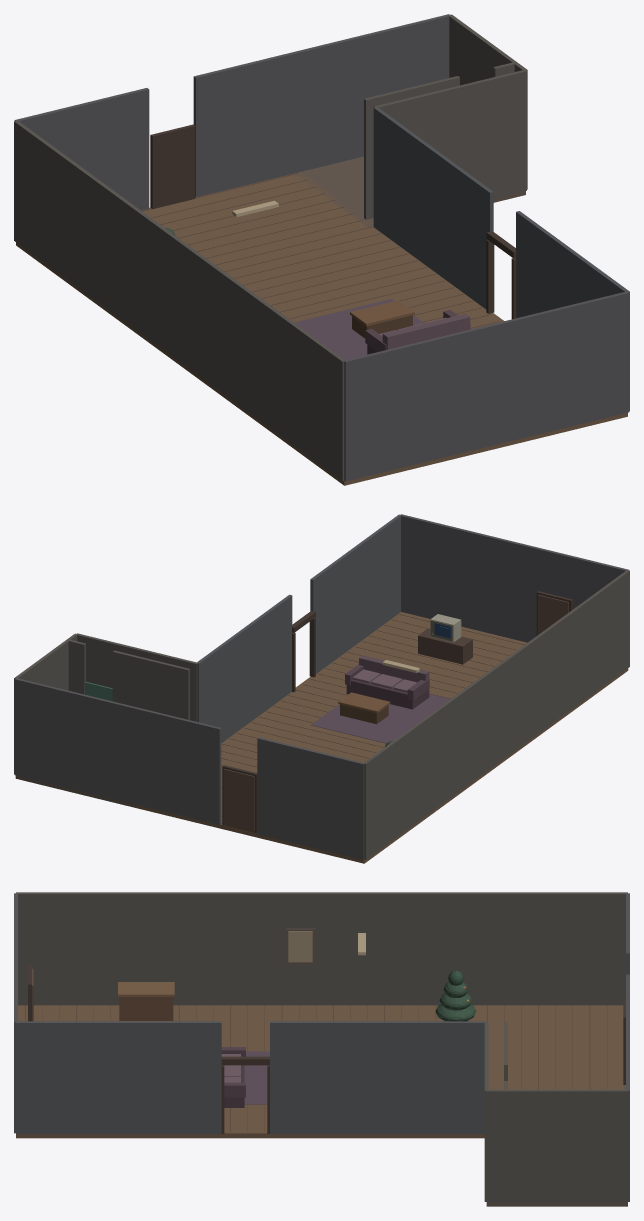
Rendered from casaCustom.obj.
The picture shows the model from 3 angles, top to bottom: view 1: azimuth 30°, elevation 25°; view 2: azimuth 150°, elevation 25°; view 3: azimuth 270°, elevation 25°; orthographic projection. The views are drawn at different scales.
Visible parts, largest first — view 1: casaCustom_original_11, casaCustom_original_12, casaCustom_original_9, casaCustom_original_14, casaCustom_original_15, casaCustom_original_decor_000, casaCustom_original_20, casaCustom_original_13, casaCustom_original_16, casaCustom_original_17, casaCustom_original_10, casaCustom_original_18 (+1 smaller); view 2: casaCustom_original_11, casaCustom_original_14, casaCustom_original_12, casaCustom_original_9, casaCustom_original_decor_000, casaCustom_original_13, casaCustom_original_15, casaCustom_original_16, casaCustom_original_18, casaCustom_original_20, casaCustom_original_17, casaCustom_original_24 (+3 smaller); view 3: casaCustom_original_11, casaCustom_original_15, casaCustom_original_16, casaCustom_original_9, casaCustom_original_17, casaCustom_original_decor_000, casaCustom_original_25, casaCustom_original_12, casaCustom_original_10, casaCustom_original_14, casaCustom_original_20.
Boxes of the visible parts, x1,y1,x2,y2 form: casaCustom_original_11: [14, 120, 344, 481]; casaCustom_original_12: [344, 291, 629, 481]; casaCustom_original_9: [16, 172, 627, 485]; casaCustom_original_14: [193, 14, 449, 197]; casaCustom_original_15: [373, 107, 493, 309]; casaCustom_original_decor_000: [139, 124, 516, 359]; casaCustom_original_20: [374, 70, 526, 198]; casaCustom_original_13: [14, 88, 149, 210]; casaCustom_original_16: [516, 211, 629, 411]; casaCustom_original_17: [448, 14, 527, 189]; casaCustom_original_10: [294, 156, 525, 228]; casaCustom_original_18: [364, 76, 459, 219]; casaCustom_original_11: [363, 570, 629, 859]; casaCustom_original_14: [14, 678, 221, 825]; casaCustom_original_12: [400, 514, 629, 642]; casaCustom_original_9: [136, 612, 628, 863]; casaCustom_original_decor_000: [15, 591, 572, 859]; casaCustom_original_13: [257, 737, 364, 860]; casaCustom_original_15: [197, 594, 292, 742]; casaCustom_original_16: [310, 514, 401, 673]; casaCustom_original_18: [112, 650, 189, 720]; casaCustom_original_20: [76, 633, 197, 721]; casaCustom_original_17: [14, 633, 77, 774]; casaCustom_original_24: [418, 628, 472, 664]; casaCustom_original_11: [16, 892, 627, 1005]; casaCustom_original_15: [270, 1021, 486, 1134]; casaCustom_original_16: [16, 1021, 221, 1134]; casaCustom_original_9: [16, 1005, 625, 1138]; casaCustom_original_17: [486, 1089, 627, 1202]; casaCustom_original_decor_000: [25, 928, 629, 1201]; casaCustom_original_25: [119, 997, 173, 1020]; casaCustom_original_12: [14, 893, 17, 1133]; casaCustom_original_10: [486, 1202, 627, 1206]; casaCustom_original_14: [626, 974, 629, 1201]; casaCustom_original_20: [484, 1022, 488, 1201].
Bounding box in the file's own units: 25.32 × 6.88 × 33.12.
